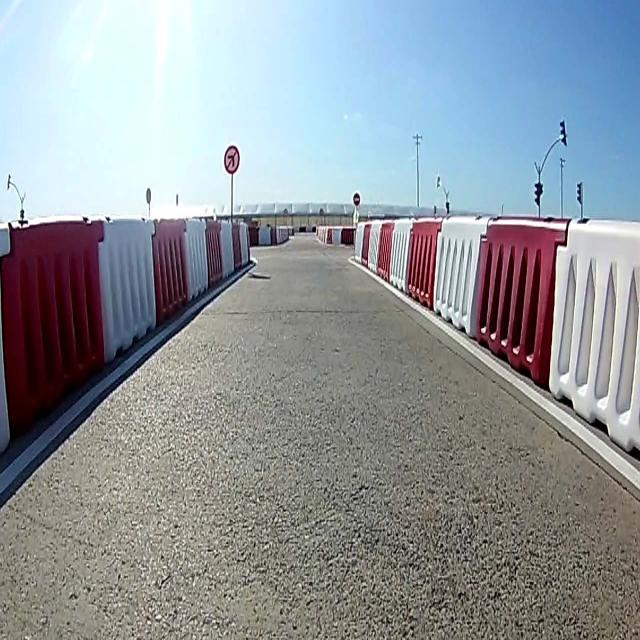girisyok: (353, 192, 361, 204)
soladonulmez: (224, 146, 240, 176)
